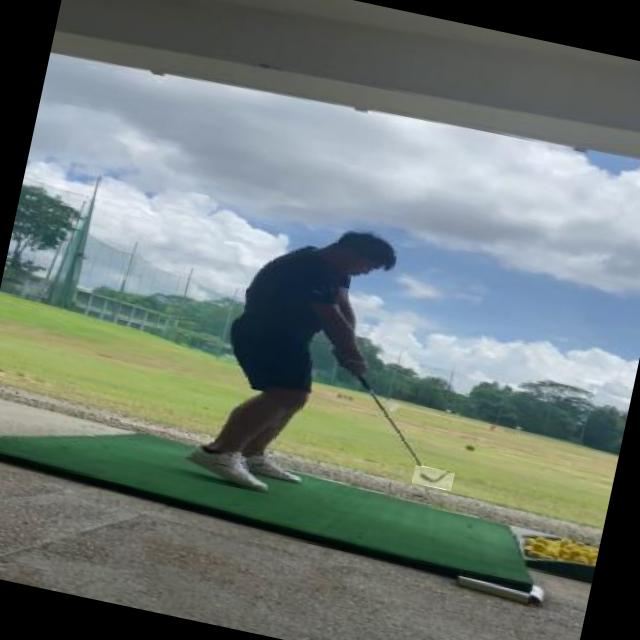club head: (411, 465, 454, 491)
